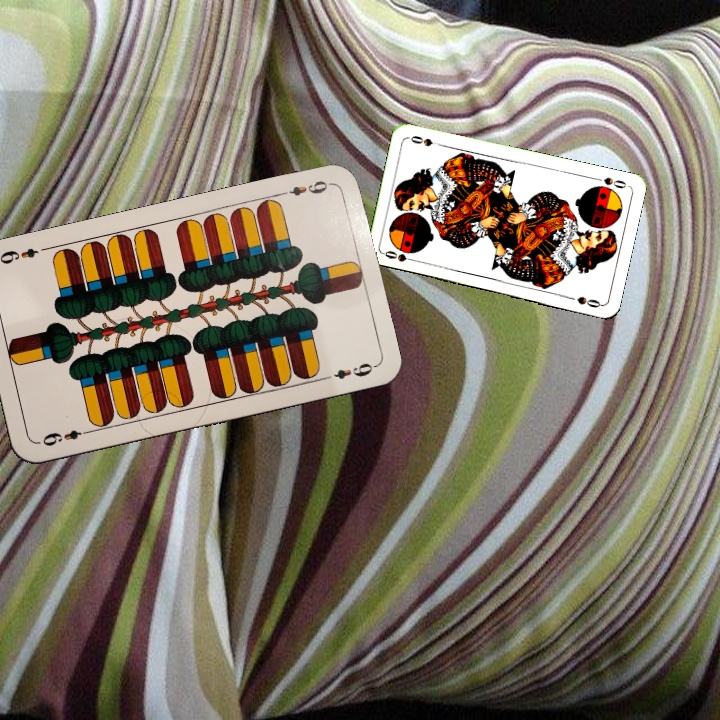E9: (276, 176, 335, 199), (38, 425, 94, 449)
SO: (380, 247, 420, 265), (590, 173, 630, 191)
